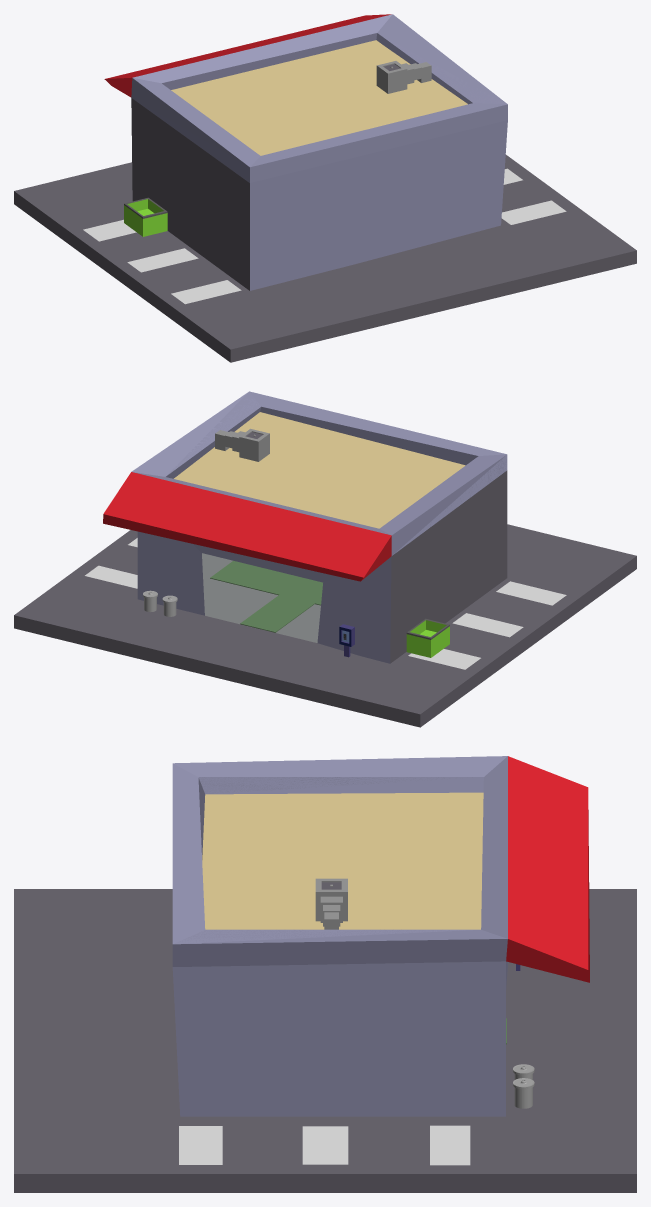
File: Market.fbx
The picture shows the model from 3 angles, top to bottom: view 1: azimuth 30°, elevation 25°; view 2: azimuth 150°, elevation 25°; view 3: azimuth 270°, elevation 25°; orthographic projection. The views are drawn at different scales.
Visible parts, largest first — view 1: Market, Market_Floor, Engine, Trash_Bin; view 2: Market, Market_Floor, Market_Carpet, Engine, Trash_Bin; view 3: Market, Market_Floor, Engine.
Boxes of the visible parts, x1=… form: Market: x1=104, y1=14, x2=507, y2=290; Market_Floor: x1=14, y1=154, x2=636, y2=362; Engine: x1=376, y1=61, x2=431, y2=93; Trash_Bin: x1=124, y1=197, x2=167, y2=236; Market: x1=103, y1=391, x2=507, y2=663; Market_Floor: x1=14, y1=524, x2=636, y2=727; Market_Carpet: x1=210, y1=561, x2=322, y2=632; Engine: x1=215, y1=428, x2=269, y2=461; Trash_Bin: x1=406, y1=618, x2=449, y2=657; Market: x1=172, y1=756, x2=589, y2=1116; Market_Floor: x1=14, y1=889, x2=636, y2=1192; Engine: x1=315, y1=878, x2=347, y2=929.
Size of the model in its own units: 18412 by 6423 by 17001.
